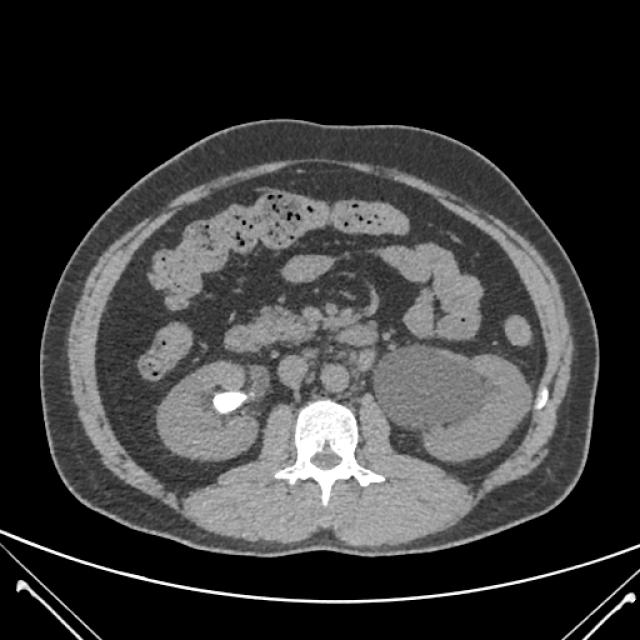kidneystone: (214, 392, 248, 413)
